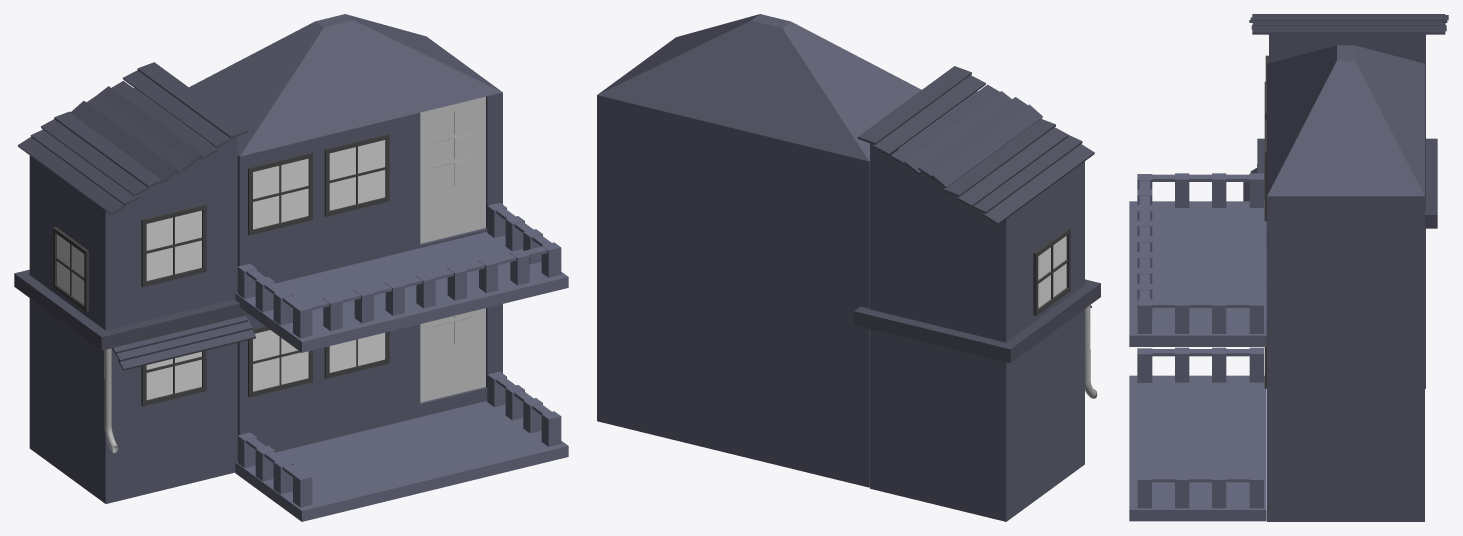
Rendered from House_32.fbx.
3 views of the same model, side by side, from view 1: azimuth 30°, elevation 25°; view 2: azimuth 150°, elevation 25°; view 3: azimuth 270°, elevation 25° (orthographic). The views are drawn at different scales.
Visible parts, largest first — view 1: House_32_Body; view 2: House_32_Body; view 3: House_32_Body.
Part boxes in pixels (box(x1,y1,x2,y2)): House_32_Body: box(14, 14, 568, 521); House_32_Body: box(597, 14, 1100, 521); House_32_Body: box(1129, 14, 1448, 521).
Bounding box in the file's own units: 1047 × 963 × 691.
